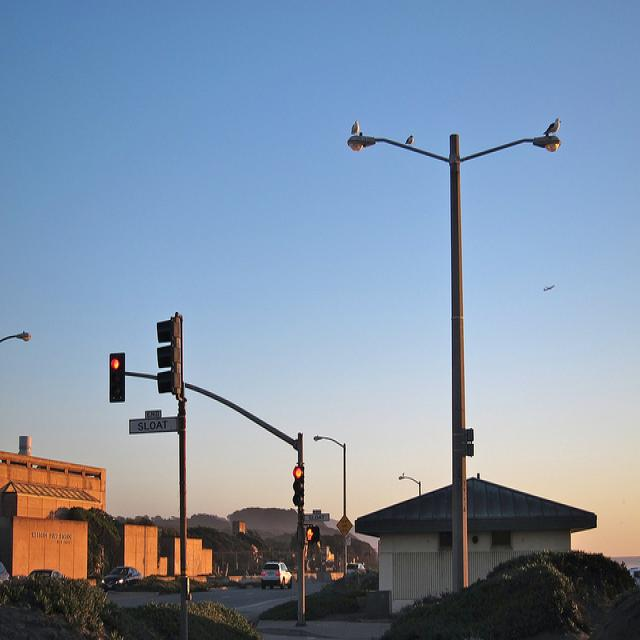Vehicle: (101, 565, 145, 590), (261, 562, 293, 589), (26, 571, 64, 577), (347, 562, 366, 574)
